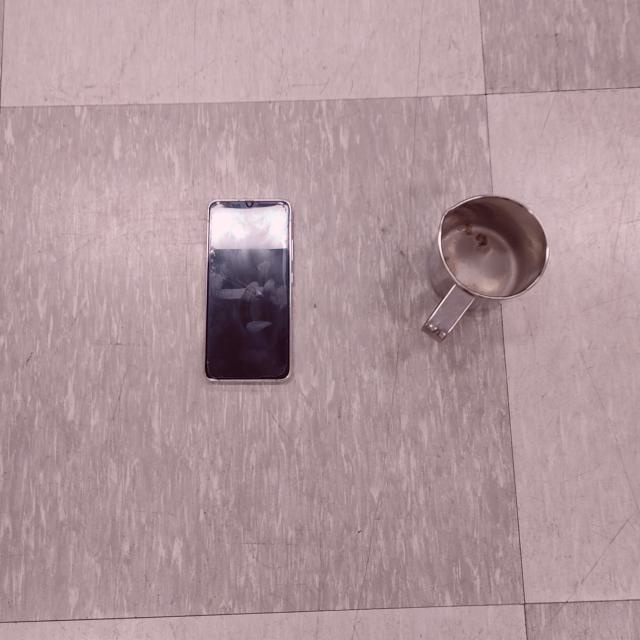cup: (419, 192, 547, 346)
phone: (203, 197, 293, 386)
